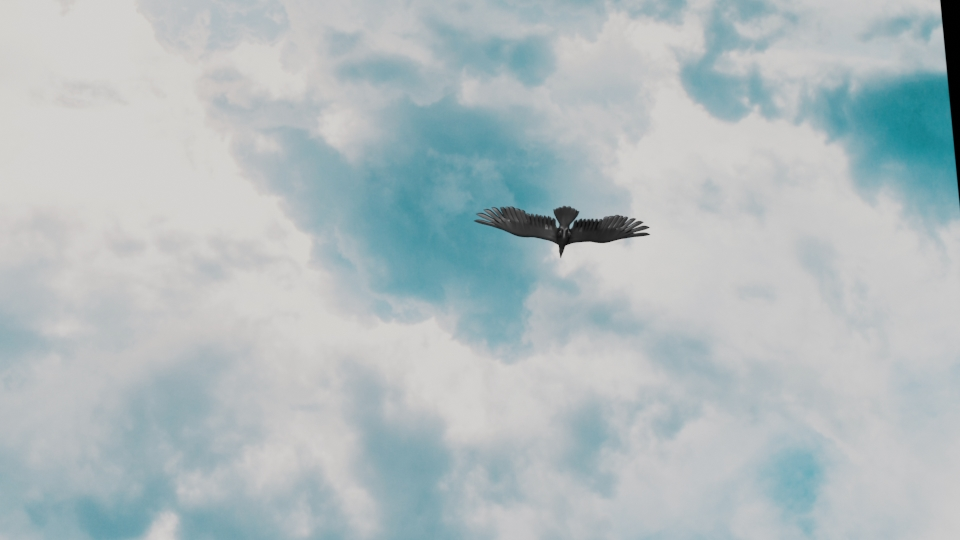bird: (477, 204, 649, 254)
